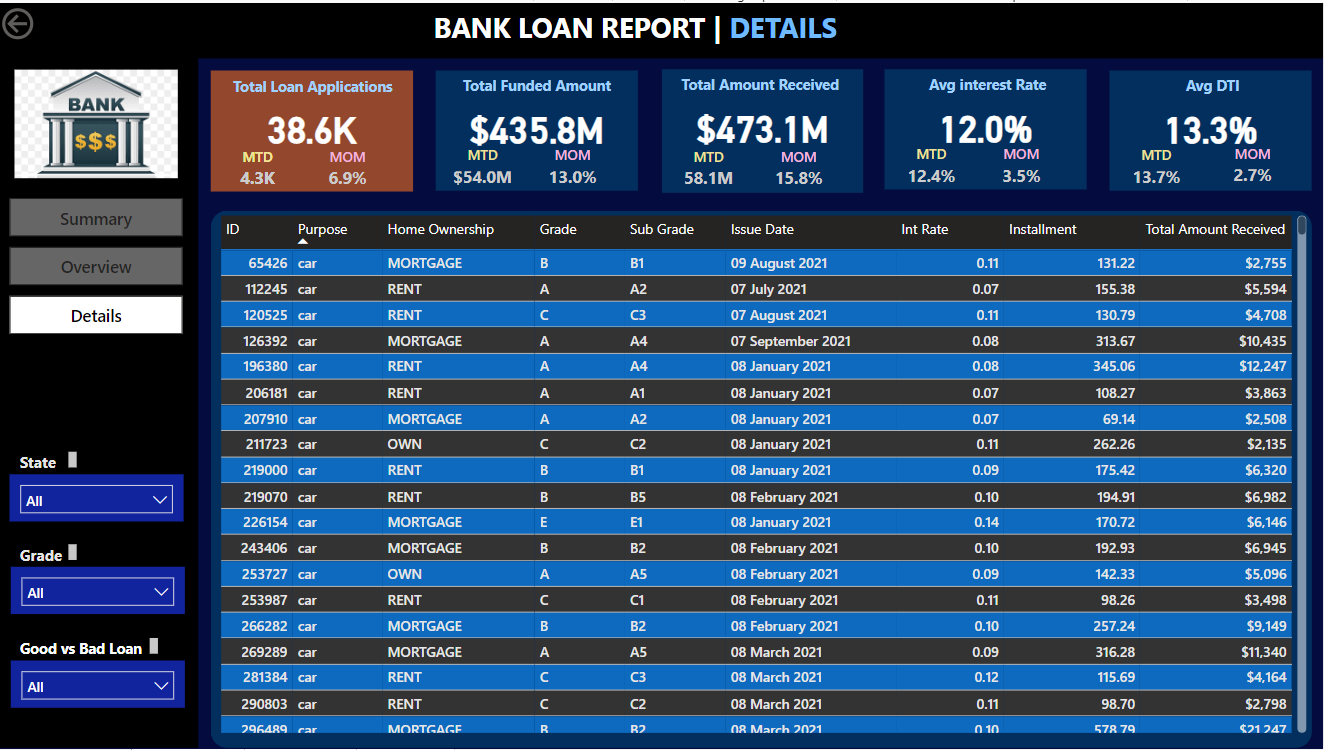

The page's visual inventory and layout, read from the dashboard file:
{"tool":"powerbi","page":{"name":"Details","canvas":[1280,720],"ordinal":2},"visuals":[{"type":"shape","box":[641.8,63.9,194.1,119.4],"z":0,"group":"g2"},{"type":"shape","box":[856.9,63.9,195,116],"z":0,"group":"g4"},{"type":"shape","box":[206.2,65.1,195.4,117],"z":0,"group":"g8"},{"type":"shape","box":[422.7,65.1,195,116],"z":0,"group":"g6"},{"type":"shape","box":[1073.4,65.1,195,116],"z":0,"group":"g7"},{"type":"shape","box":[206.2,200.2,1062.5,518.6],"z":0},{"type":"shape","box":[0,0,1280.3,53.5],"z":1000},{"type":"card","fields":{"Values":["financial_loan.AVG Intrest Rate"]},"box":[856.9,91.4,195,53.8],"z":1000,"group":"g4"},{"type":"card","fields":{"Values":["financial_loan.Total Amount Received"]},"box":[641.8,92.2,194.1,55.4],"z":1000,"group":"g2"},{"type":"card","fields":{"Values":["financial_loan.Total Funded Amount"]},"box":[422.7,92.6,195,53.8],"z":1000,"group":"g6"},{"type":"card","fields":{"Values":["financial_loan.AVG DTI"]},"box":[1073.4,92.6,195,53.8],"z":1000,"group":"g7"},{"type":"card","fields":{"Values":["financial_loan.Total Loan Applications"]},"box":[206.2,92.8,195.4,54.3],"z":1000,"group":"g8"},{"type":"textbox","box":[867.7,63.9,173.3,32.3],"z":2000,"group":"g4"},{"type":"textbox","box":[639.2,64,194.2,35],"z":2000,"group":"g2"},{"type":"textbox","box":[433.5,65.1,173.3,32.3],"z":2000,"group":"g6"},{"type":"textbox","box":[1084.2,65.1,173.3,32.3],"z":2000,"group":"g7"},{"type":"textbox","box":[209.5,66.2,189.3,31.4],"z":2000,"group":"g8"},{"type":"textbox","box":[0,105.8,189.3,31.4],"z":2000},{"type":"shape","box":[2.4,53.1,191.8,665.7],"z":3000},{"type":"card","title":"MTD","fields":{"Values":["financial_loan.MTD AVG Intrest Rate"]},"box":[867.7,136.9,68.6,43],"z":3000,"group":"g4"},{"type":"card","title":"MTD","fields":{"Values":["financial_loan.MTD Funded Amount"]},"box":[433.5,138.1,68.6,43],"z":3000,"group":"g6"},{"type":"card","title":"MTD","fields":{"Values":["financial_loan.MTD AVG DTI"]},"box":[1084.2,138.1,68.6,43],"z":3000,"group":"g7"},{"type":"card","title":"MTD","fields":{"Values":["financial_loan.MTD Loan Applications"]},"box":[217,138.7,68.7,43.4],"z":3000,"group":"g8"},{"type":"card","title":"MTD","fields":{"Values":["financial_loan.MTD Total Amount Received"]},"box":[652.6,139,68.3,44.3],"z":3000,"group":"g2"},{"type":"textbox","box":[416.1,0,448.6,49.5],"z":4000},{"type":"card","title":"MOM","fields":{"Values":["financial_loan.MOM Avg DTI"]},"box":[1176.6,135.8,68.7,43.4],"z":4000,"group":"g7"},{"type":"card","title":"MOM","fields":{"Values":["financial_loan.MOM Avg Intrest Rate"]},"box":[954.4,136.9,68.6,43],"z":4000,"group":"g4"},{"type":"card","title":"MOM","fields":{"Values":["financial_loan.MOM Funded Amount"]},"box":[520.2,138.1,68.6,43],"z":4000,"group":"g6"},{"type":"card","title":"MOM","fields":{"Values":["financial_loan.MOM Loan Applications"]},"box":[303.9,138.7,68.7,43.4],"z":4000,"group":"g8"},{"type":"card","title":"MOM","fields":{"Values":["financial_loan.MOM Total Amount Received"]},"box":[738.9,139,68.3,44.3],"z":4000,"group":"g2"},{"type":"group","id":"g1","title":"Group 2","box":[639.2,63.9,196.7,119.4],"z":4007,"group":"g11"},{"type":"group","id":"g2","title":"Group 3","box":[639.2,63.9,196.7,119.4],"z":4007,"group":"g1"},{"type":"group","id":"g3","title":"Group 2","box":[856.9,63.9,195,116],"z":4007,"group":"g12"},{"type":"group","id":"g4","title":"Group 3","box":[856.9,63.9,195,116],"z":4007,"group":"g3"},{"type":"group","id":"g5","title":"Group 2","box":[422.7,65.1,195,116],"z":4007,"group":"g10"},{"type":"group","id":"g6","title":"Group 3","box":[422.7,65.1,195,116],"z":4007,"group":"g5"},{"type":"group","id":"g7","title":"Group 3","box":[1073.4,65.1,195,116],"z":4007,"group":"g9"},{"type":"group","id":"g8","title":"Group 1","box":[206.2,65.1,195.4,117],"z":5000},{"type":"card","title":"MTD","fields":{"Values":["financial_loan.MTD Loan Applications"]},"box":[217.1,138.7,68.7,43.4],"z":6000},{"type":"group","id":"g9","title":"Group 2","box":[1073.4,65.1,195.4,115.8],"z":7000},{"type":"group","id":"g10","title":"Group 1","box":[422.7,65.1,195.4,115.8],"z":8000},{"type":"group","id":"g11","title":"Group 1","box":[639.2,63.9,196.6,119.4],"z":9000},{"type":"group","id":"g12","title":"Group 1","box":[856.9,63.9,195.4,115.8],"z":10000},{"type":"actionButton","box":[0,0,100,40],"z":11000},{"type":"slicer","fields":{"Values":["financial_loan.address_state"]},"box":[12.1,454.3,167.6,45.8],"z":12000},{"type":"textbox","box":[16.9,428.1,65.1,26.5],"z":13000},{"type":"slicer","fields":{"Values":["financial_loan.grade"]},"box":[13.3,544.3,167.6,45.8],"z":14000},{"type":"textbox","box":[16.9,517.4,65.1,26.5],"z":15000},{"type":"slicer","fields":{"Values":["financial_loan.Good vs Bad Loan"]},"box":[13.3,634.4,167.6,45.8],"z":16000},{"type":"textbox","box":[16.9,607.8,143.5,26.5],"z":17000},{"type":"tableEx","fields":{"Values":["financial_loan.id","financial_loan.purpose","financial_loan.home_ownership","financial_loan.grade","financial_loan.sub_grade","financial_loan.issue_date","Sum(financial_loan.int_rate)","Sum(financial_loan.installment)","financial_loan.Total Amount Received"]},"box":[209.8,200.2,1058.9,508.9],"z":18000},{"type":"pageNavigator","box":[12.1,188.5,167.6,133.9],"z":19000},{"type":"image","box":[12.1,53.1,167.6,126.6],"z":20000}]}

Visuals, with their boxes in screenshot pixels (x1, y1, x2, y2), scaled from the page's 1280x720 canvas onto the 1324x750 screenshot:
shape: {"x1": 664, "y1": 67, "x2": 865, "y2": 191}
shape: {"x1": 886, "y1": 67, "x2": 1088, "y2": 187}
shape: {"x1": 213, "y1": 68, "x2": 415, "y2": 190}
shape: {"x1": 437, "y1": 68, "x2": 639, "y2": 189}
shape: {"x1": 1110, "y1": 68, "x2": 1312, "y2": 189}
shape: {"x1": 213, "y1": 209, "x2": 1312, "y2": 749}
shape: {"x1": 0, "y1": 0, "x2": 1323, "y2": 56}
card - financial_loan.AVG Intrest Rate: {"x1": 886, "y1": 95, "x2": 1088, "y2": 151}
card - financial_loan.Total Amount Received: {"x1": 664, "y1": 96, "x2": 865, "y2": 154}
card - financial_loan.Total Funded Amount: {"x1": 437, "y1": 96, "x2": 639, "y2": 152}
card - financial_loan.AVG DTI: {"x1": 1110, "y1": 96, "x2": 1312, "y2": 152}
card - financial_loan.Total Loan Applications: {"x1": 213, "y1": 97, "x2": 415, "y2": 153}
textbox: {"x1": 898, "y1": 67, "x2": 1077, "y2": 100}
textbox: {"x1": 661, "y1": 67, "x2": 862, "y2": 103}
textbox: {"x1": 448, "y1": 68, "x2": 628, "y2": 101}
textbox: {"x1": 1121, "y1": 68, "x2": 1301, "y2": 101}
textbox: {"x1": 217, "y1": 69, "x2": 413, "y2": 102}
textbox: {"x1": 0, "y1": 110, "x2": 196, "y2": 143}
shape: {"x1": 2, "y1": 55, "x2": 201, "y2": 749}
"MTD" card: {"x1": 898, "y1": 143, "x2": 968, "y2": 187}
"MTD" card: {"x1": 448, "y1": 144, "x2": 519, "y2": 189}
"MTD" card: {"x1": 1121, "y1": 144, "x2": 1192, "y2": 189}
"MTD" card: {"x1": 224, "y1": 144, "x2": 296, "y2": 190}
"MTD" card: {"x1": 675, "y1": 145, "x2": 746, "y2": 191}
textbox: {"x1": 430, "y1": 0, "x2": 894, "y2": 52}
"MOM" card: {"x1": 1217, "y1": 141, "x2": 1288, "y2": 187}
"MOM" card: {"x1": 987, "y1": 143, "x2": 1058, "y2": 187}
"MOM" card: {"x1": 538, "y1": 144, "x2": 609, "y2": 189}
"MOM" card: {"x1": 314, "y1": 144, "x2": 385, "y2": 190}
"MOM" card: {"x1": 764, "y1": 145, "x2": 835, "y2": 191}
"Group 2" group: {"x1": 661, "y1": 67, "x2": 865, "y2": 191}
"Group 3" group: {"x1": 661, "y1": 67, "x2": 865, "y2": 191}
"Group 2" group: {"x1": 886, "y1": 67, "x2": 1088, "y2": 187}
"Group 3" group: {"x1": 886, "y1": 67, "x2": 1088, "y2": 187}
"Group 2" group: {"x1": 437, "y1": 68, "x2": 639, "y2": 189}
"Group 3" group: {"x1": 437, "y1": 68, "x2": 639, "y2": 189}
"Group 3" group: {"x1": 1110, "y1": 68, "x2": 1312, "y2": 189}
"Group 1" group: {"x1": 213, "y1": 68, "x2": 415, "y2": 190}
"MTD" card: {"x1": 225, "y1": 144, "x2": 296, "y2": 190}
"Group 2" group: {"x1": 1110, "y1": 68, "x2": 1312, "y2": 188}
"Group 1" group: {"x1": 437, "y1": 68, "x2": 639, "y2": 188}
"Group 1" group: {"x1": 661, "y1": 67, "x2": 865, "y2": 191}
"Group 1" group: {"x1": 886, "y1": 67, "x2": 1088, "y2": 187}
actionButton: {"x1": 0, "y1": 0, "x2": 103, "y2": 42}
slicer - financial_loan.address_state: {"x1": 13, "y1": 473, "x2": 186, "y2": 521}
textbox: {"x1": 17, "y1": 446, "x2": 85, "y2": 474}
slicer - financial_loan.grade: {"x1": 14, "y1": 567, "x2": 187, "y2": 615}
textbox: {"x1": 17, "y1": 539, "x2": 85, "y2": 567}
slicer - financial_loan.Good vs Bad Loan: {"x1": 14, "y1": 661, "x2": 187, "y2": 709}
textbox: {"x1": 17, "y1": 633, "x2": 166, "y2": 661}
tableEx - financial_loan.id x financial_loan.purpose: {"x1": 217, "y1": 209, "x2": 1312, "y2": 739}
pageNavigator: {"x1": 13, "y1": 196, "x2": 186, "y2": 336}
image: {"x1": 13, "y1": 55, "x2": 186, "y2": 187}
